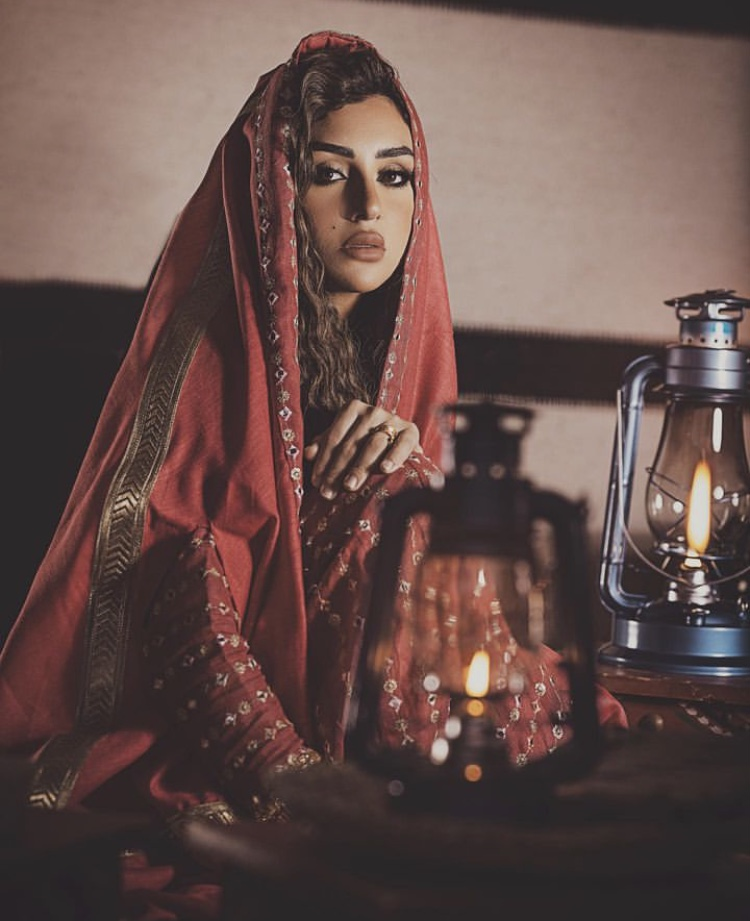Saudi_Founding_Day: (2, 31, 649, 814)
